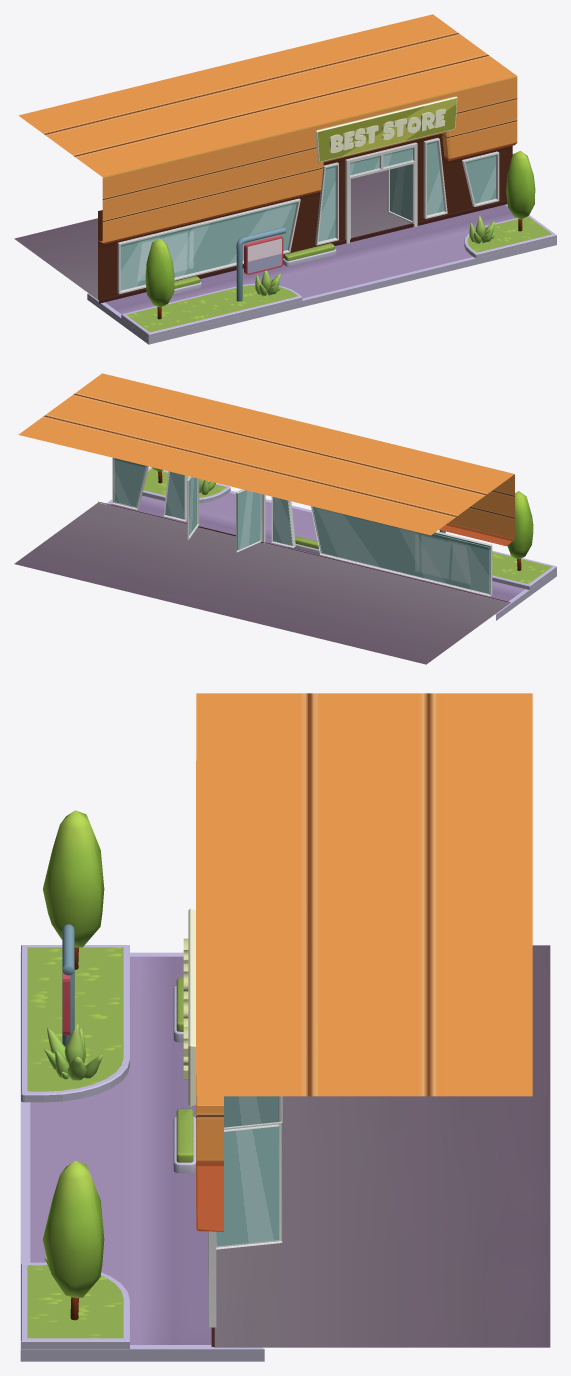
Rendered from beststore.fbx.
3 views of the same model, one above another, from view 1: azimuth 30°, elevation 25°; view 2: azimuth 150°, elevation 25°; view 3: azimuth 270°, elevation 25° (orthographic). The views are drawn at different scales.
Parts seen in each view (by area): view 1: Cylinder; view 2: Cylinder; view 3: Cylinder.
Part boxes in pixels (x1,y1,x2,y2): Cylinder: (14, 14, 556, 344); Cylinder: (14, 373, 556, 664); Cylinder: (20, 693, 550, 1361).
Bounding box in the file's own units: 1254 × 392 × 697.
